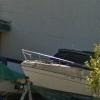Boat: (15, 42, 100, 100)
